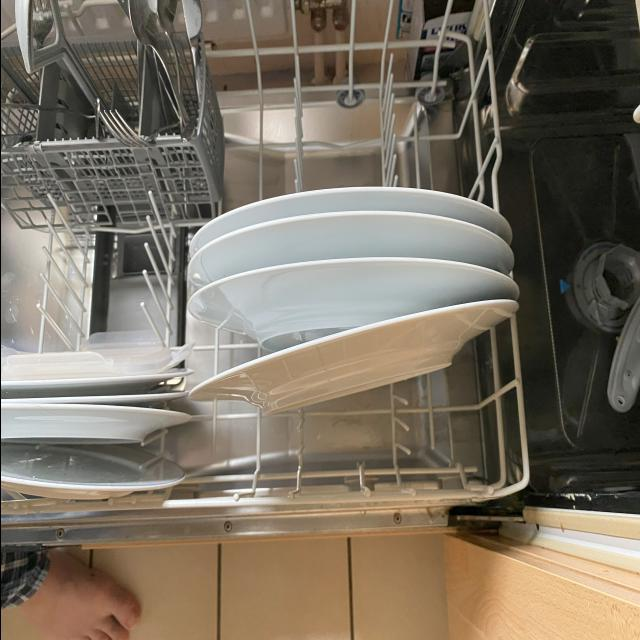clutery_bin: (5, 6, 202, 143)
empty_slot: (238, 16, 483, 176), (9, 212, 195, 339), (219, 411, 492, 472)
